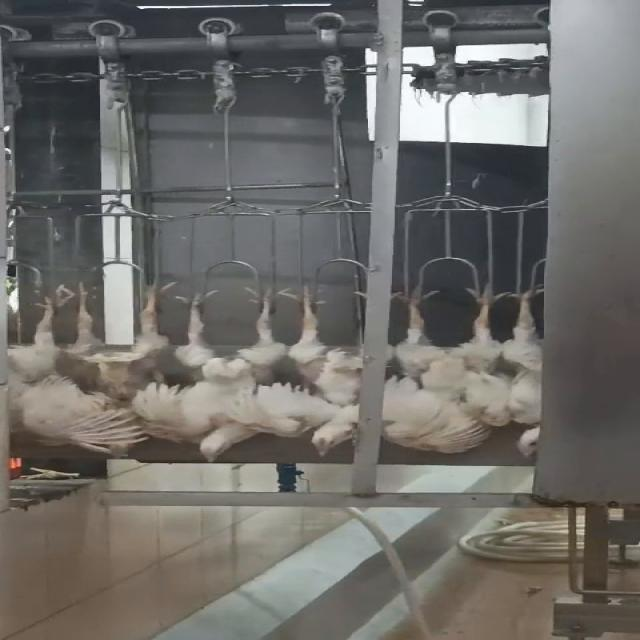chicken: (163, 284, 314, 466), (7, 277, 144, 458), (384, 284, 496, 458), (284, 284, 376, 454), (66, 273, 170, 410), (484, 280, 538, 462)
